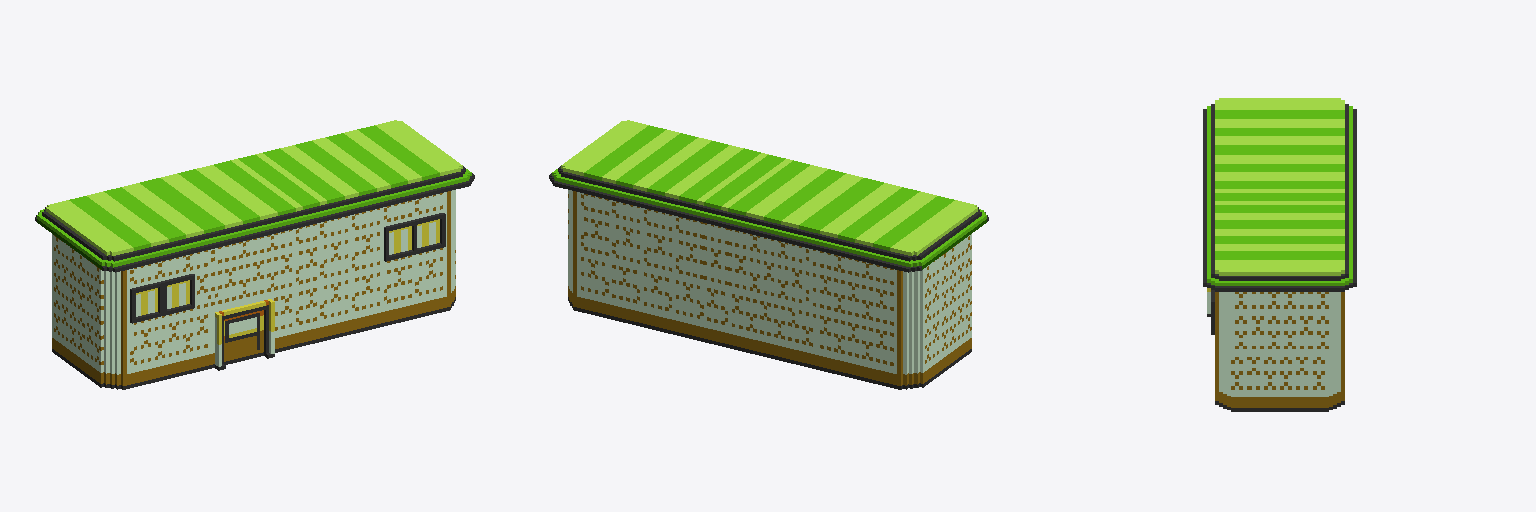
3 renders of one model, left to right at view 1: azimuth 30°, elevation 25°; view 2: azimuth 150°, elevation 25°; view 3: azimuth 270°, elevation 25°, orthographic.
Visible parts, largest first — view 1: Model; view 2: Model; view 3: Model.
Part boxes in pixels (x1,y1,x2,y2): Model: (35, 120, 474, 389); Model: (549, 120, 988, 389); Model: (1203, 98, 1356, 411).
Size of the model in its own units: 30.84 by 11.05 by 11.05.
Materials: 1 (1 with a texture image).